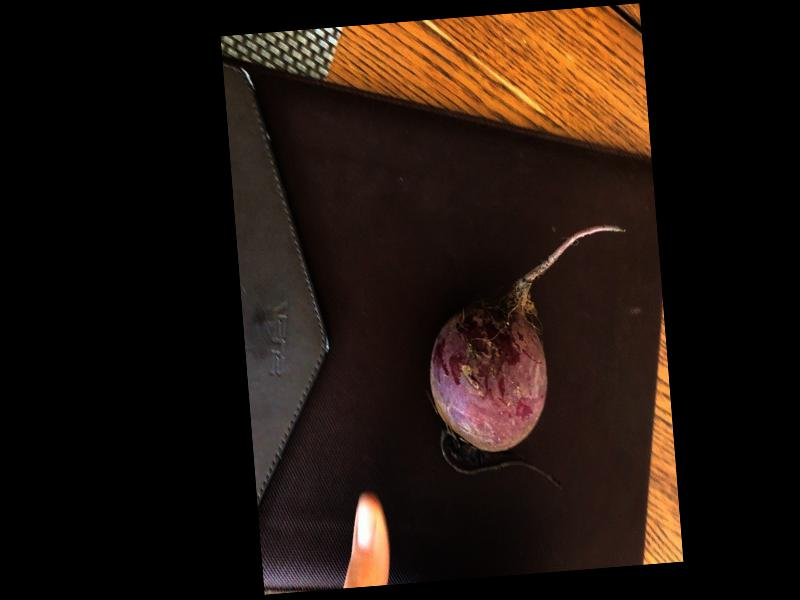Beet: (419, 222, 643, 496)
